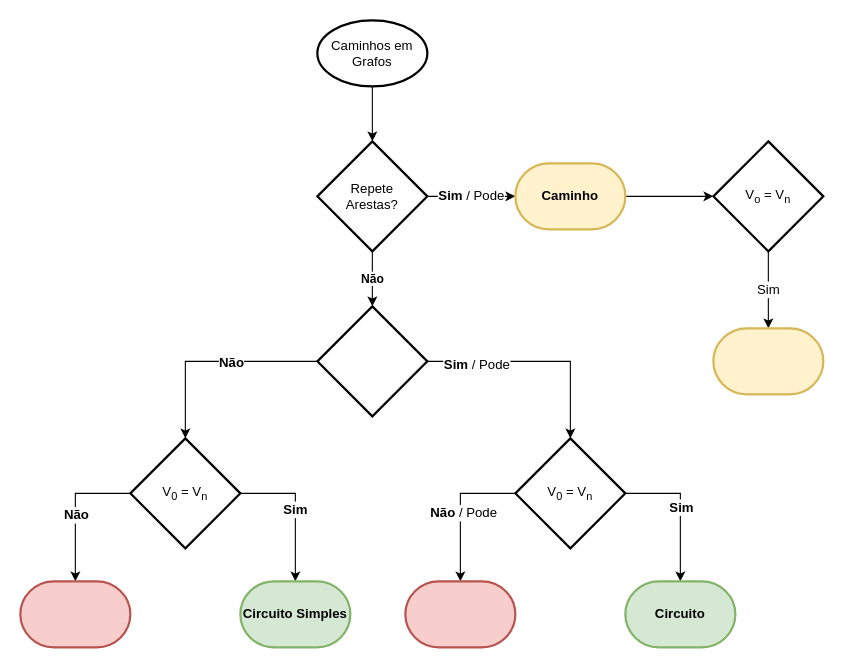
Image size: 843x667. Some labels were removed from this diagram. Here are the shapes that lost their labels. From the top down, the box of each, then its label:
(316, 305, 428, 417): Repete Vértices ao longo?
(712, 327, 824, 395): Caminho Fechado (ciclo)
(19, 580, 131, 648): Trajeto Simples
(404, 580, 516, 648): Trajeto
